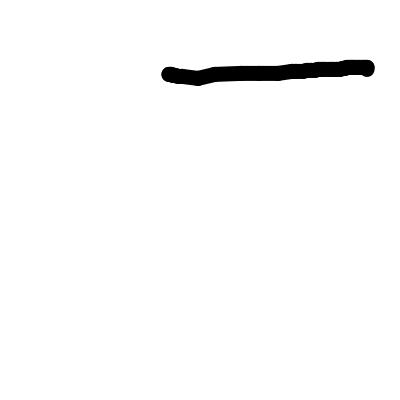minus: (159, 53, 378, 90)
